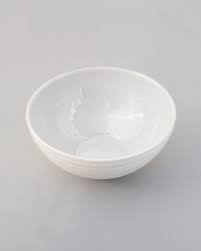bowl: (23, 63, 180, 185)
